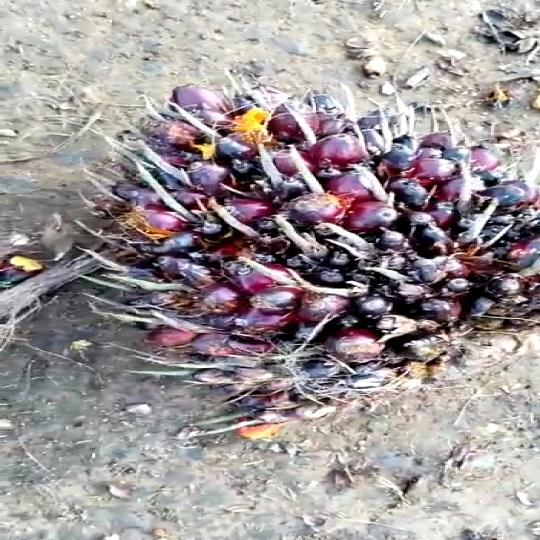kurang masak: (92, 89, 540, 427)
